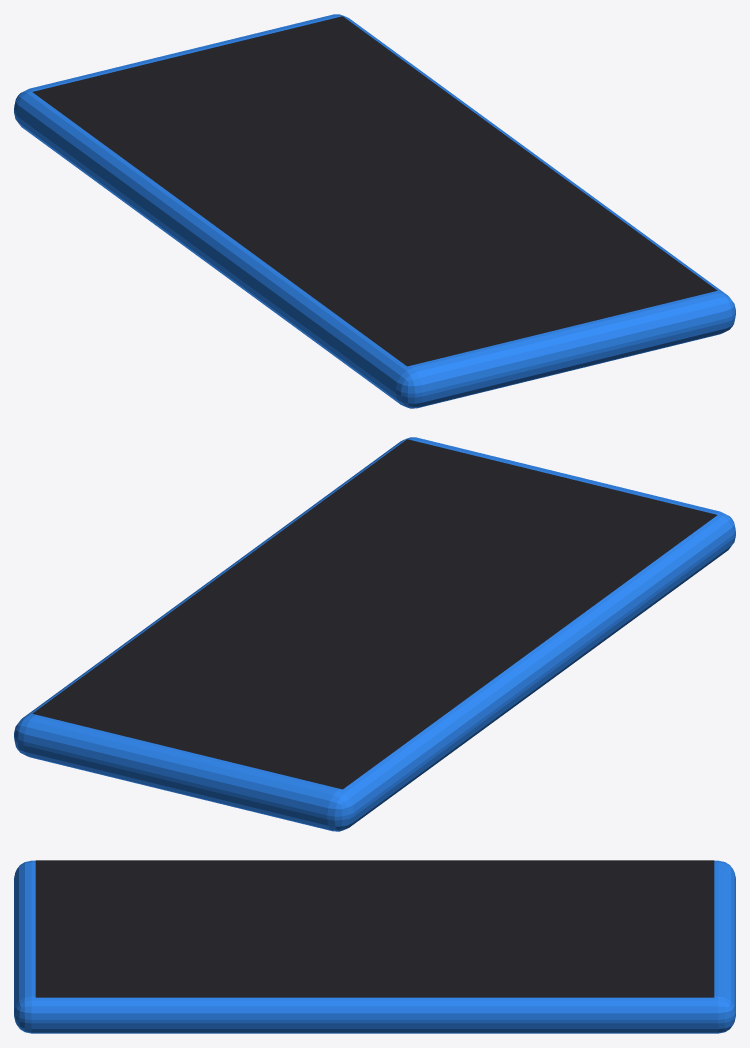
File: poco-gen-2023-budget-2023.glb
3 renders of one model, top to bottom at view 1: azimuth 30°, elevation 25°; view 2: azimuth 150°, elevation 25°; view 3: azimuth 270°, elevation 25°, orthographic. The views are drawn at different scales.
Visible parts, largest first — view 1: Phone_Screen, Phone_Body; view 2: Phone_Screen, Phone_Body; view 3: Phone_Screen, Phone_Body.
Boxes of the visible parts, x1=… form: Phone_Screen: x1=32, y1=16, x2=717, y2=366; Phone_Body: x1=14, y1=14, x2=735, y2=408; Phone_Screen: x1=32, y1=439, x2=717, y2=789; Phone_Body: x1=14, y1=437, x2=735, y2=831; Phone_Screen: x1=35, y1=860, x2=714, y2=997; Phone_Body: x1=14, y1=860, x2=735, y2=1033.
Bounding box in the file's own units: 0.0746 × 0.0084 × 0.1527.
